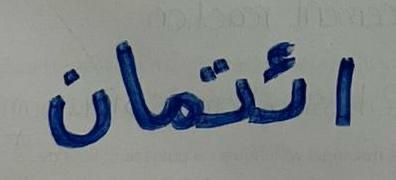alef: (322, 34, 371, 153), (114, 31, 152, 138)
hamza: (256, 25, 317, 147)
meem: (154, 86, 205, 155)
noon: (34, 44, 112, 159)
teh: (207, 41, 255, 149)
